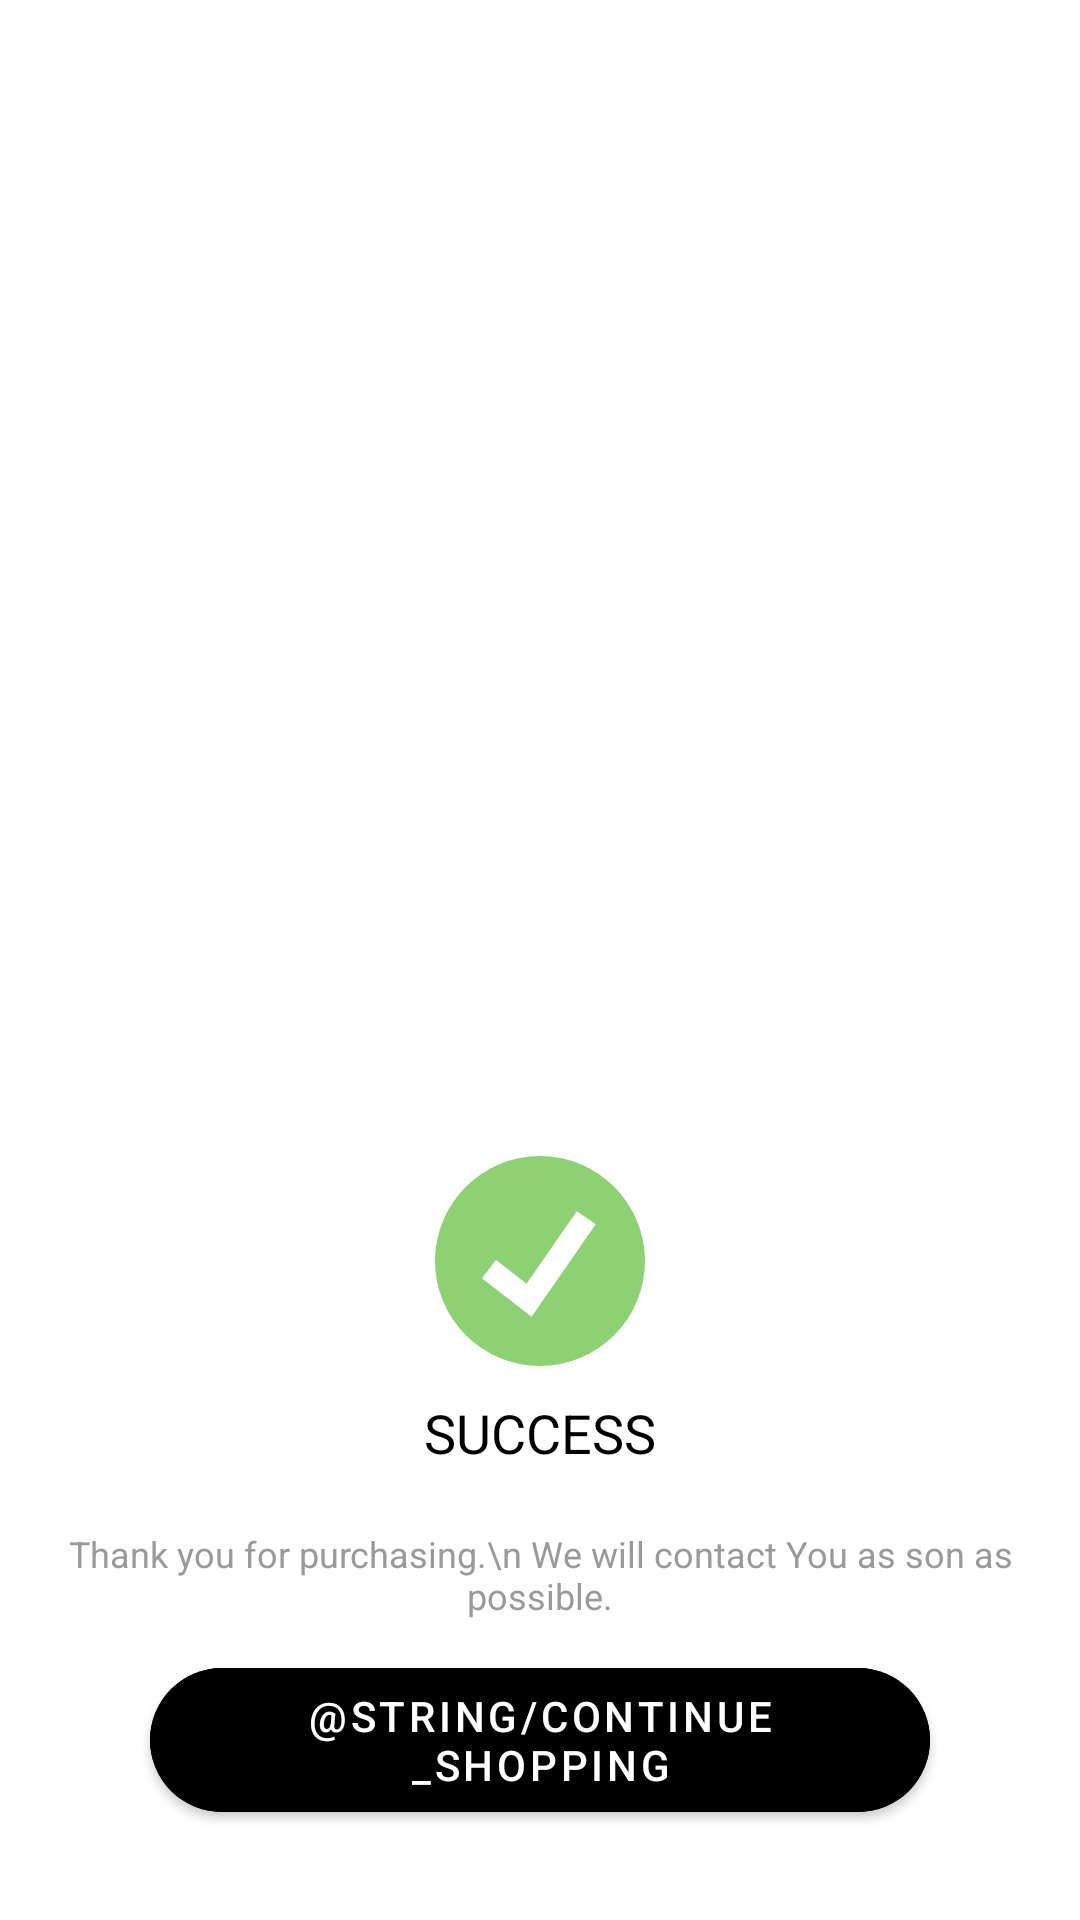

Screen size 1080w x 1920h. Icon name, then its center in pixels as (x,y):
check: (540,1261)
